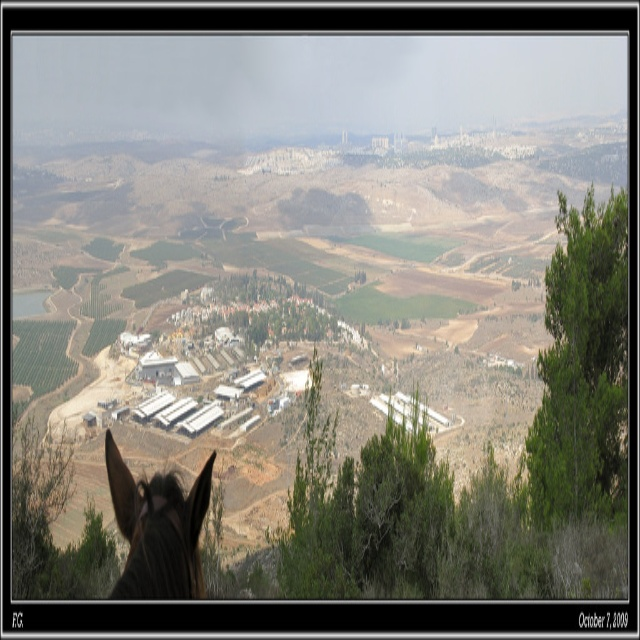Horse: (103, 431, 216, 604)
